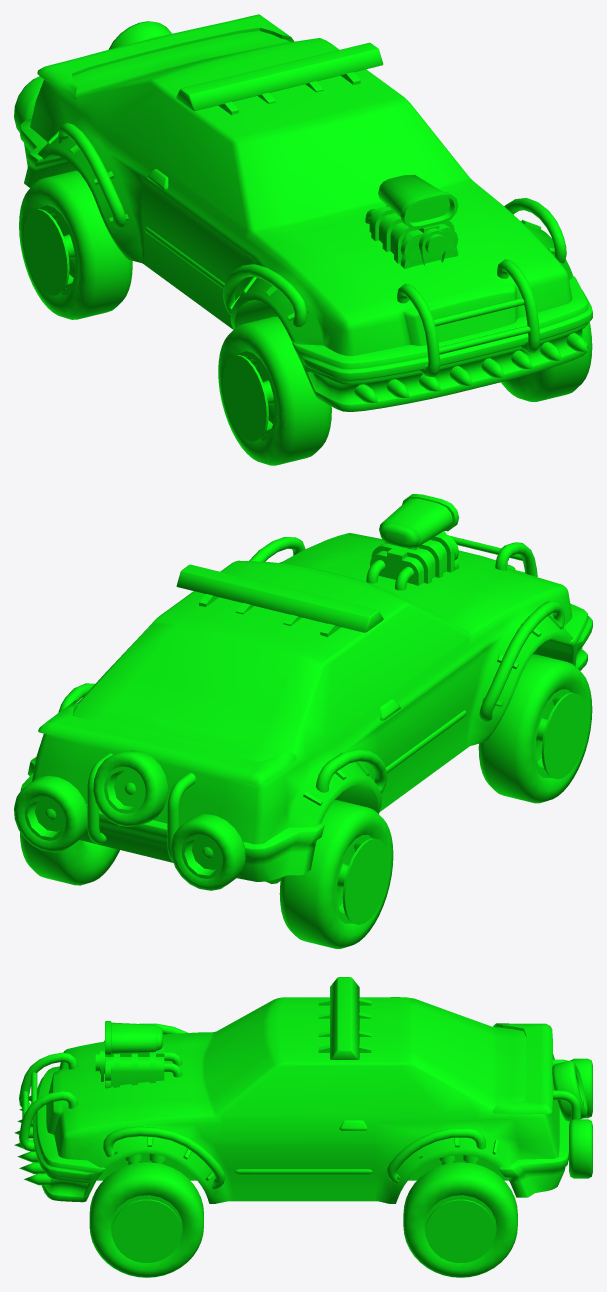
The model's file is Car_02.fbx.
3 views of the same model, one above another, from view 1: azimuth 30°, elevation 25°; view 2: azimuth 150°, elevation 25°; view 3: azimuth 270°, elevation 25° (orthographic). The views are drawn at different scales.
Visible parts, largest first — view 1: Car_03_Body, Shield, RR, FR, Engine, FL; view 2: Car_03_Body, Shield, FR, RR, Engine, RL; view 3: Car_03_Body, RL, FL, Shield, Engine.
Boxes of the visible parts, x1,y1,x2,y2 form: Car_03_Body: (20, 14, 592, 411); Shield: (14, 21, 588, 402); RR: (19, 170, 132, 319); FR: (218, 316, 331, 465); Engine: (365, 174, 458, 268); FL: (501, 322, 592, 401); Car_03_Body: (20, 533, 592, 883); Shield: (14, 535, 564, 890); FR: (478, 654, 592, 803); RR: (279, 800, 393, 948); Engine: (366, 494, 459, 590); RL: (20, 832, 119, 885); Car_03_Body: (33, 977, 569, 1203); RL: (403, 1162, 517, 1277); FL: (89, 1162, 203, 1277); Shield: (14, 1023, 592, 1189); Engine: (95, 1021, 182, 1088).
Size of the model in its own units: 303 by 600 by 238.
